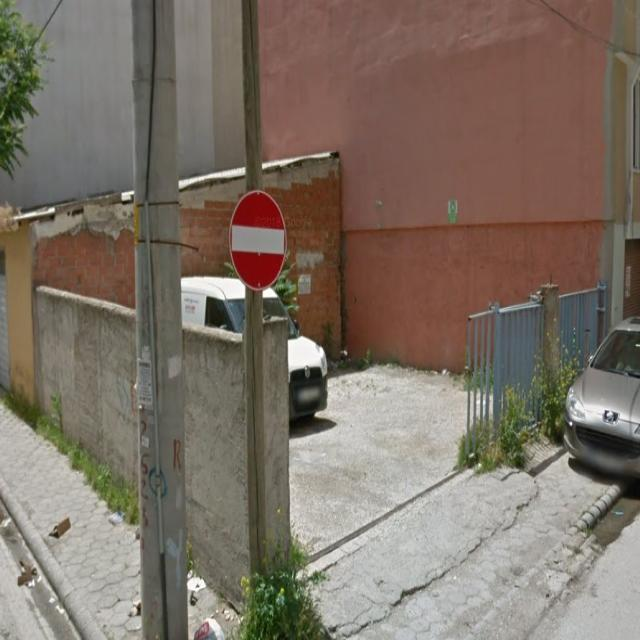girisyok: (229, 190, 288, 291)
